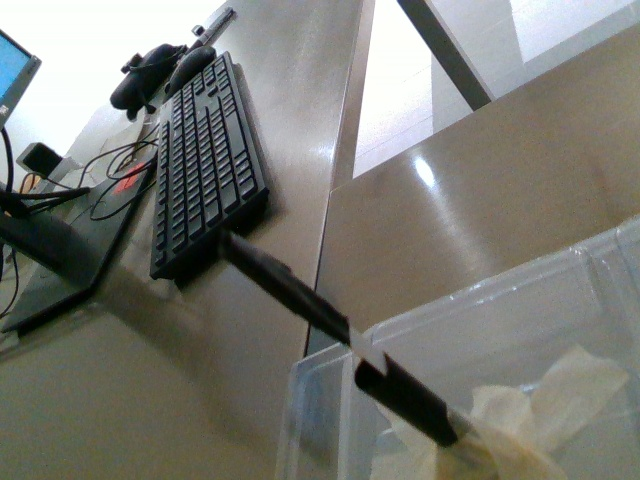test_strip: (223, 232, 385, 373)
